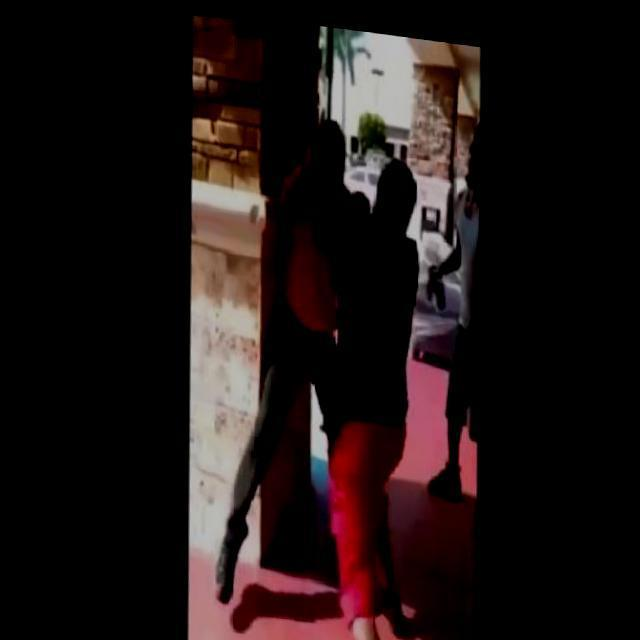fight: (180, 90, 444, 640)
